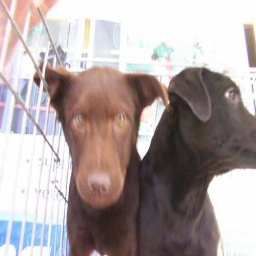dog: (34, 56, 256, 256)
